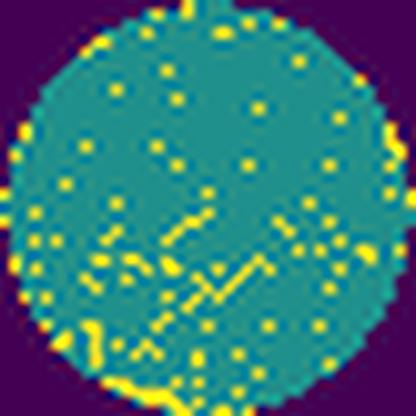Edge-Loc: (105, 373, 192, 416)
